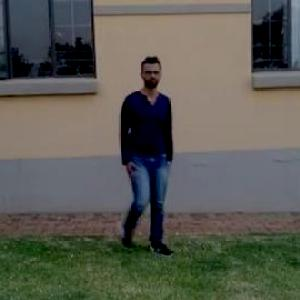follow: (118, 57, 174, 250)
